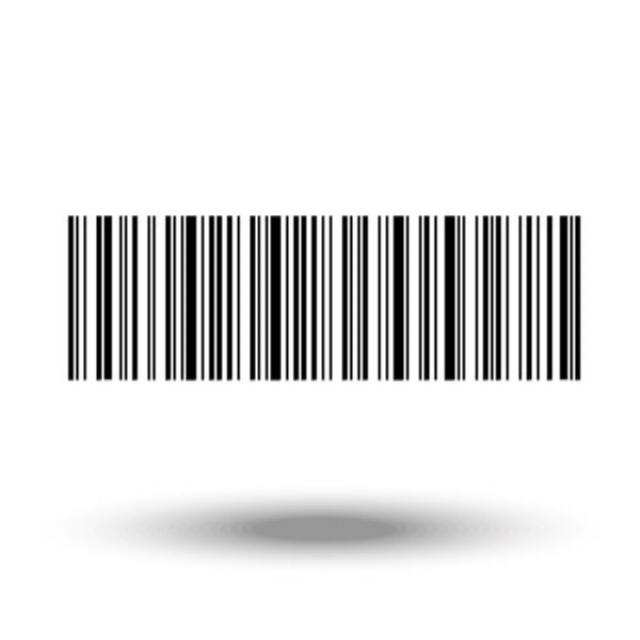Barkod: (59, 200, 590, 395)
